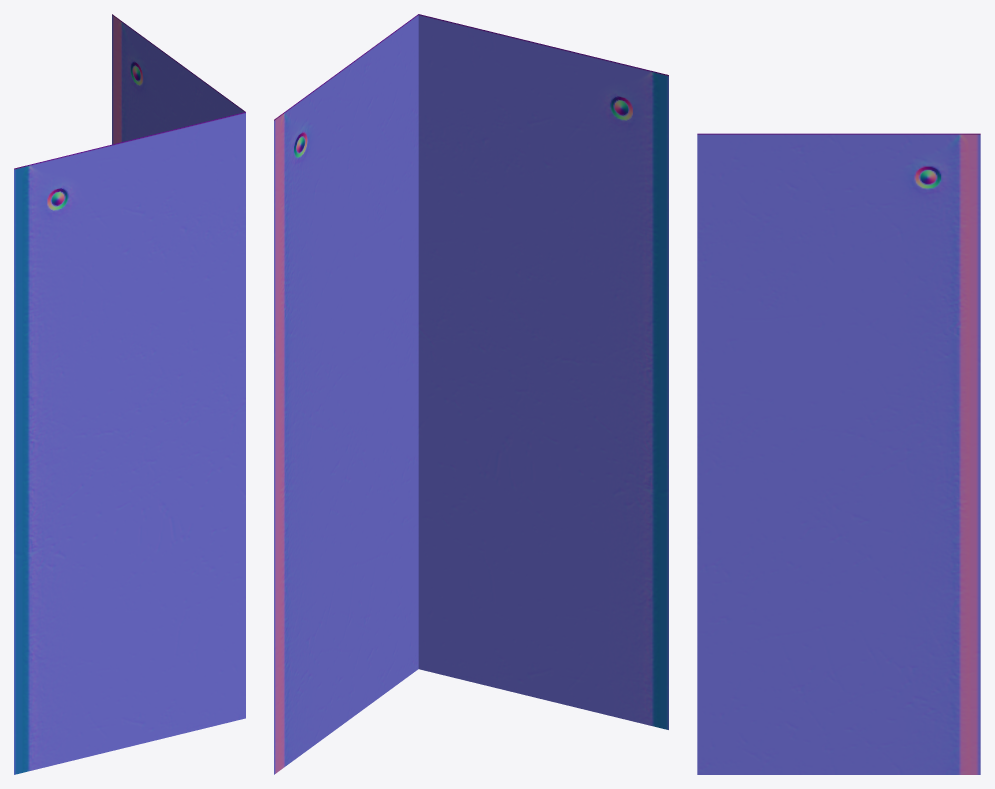
Rendered from Wall_02_Corner_Art.fbx.
The picture shows the model from 3 angles, left to right: view 1: azimuth 30°, elevation 25°; view 2: azimuth 150°, elevation 25°; view 3: azimuth 270°, elevation 25°; orthographic projection. The views are drawn at different scales.
Visible parts, largest first — view 1: Wall_02_Corner; view 2: Wall_02_Corner; view 3: Wall_02_Corner.
Boxes of the visible parts, <box> form: Wall_02_Corner: <box>14,14,245,774</box>; Wall_02_Corner: <box>274,14,668,774</box>; Wall_02_Corner: <box>697,133,980,774</box>.
Bounding box in the file's own units: 100 × 250 × 100.
